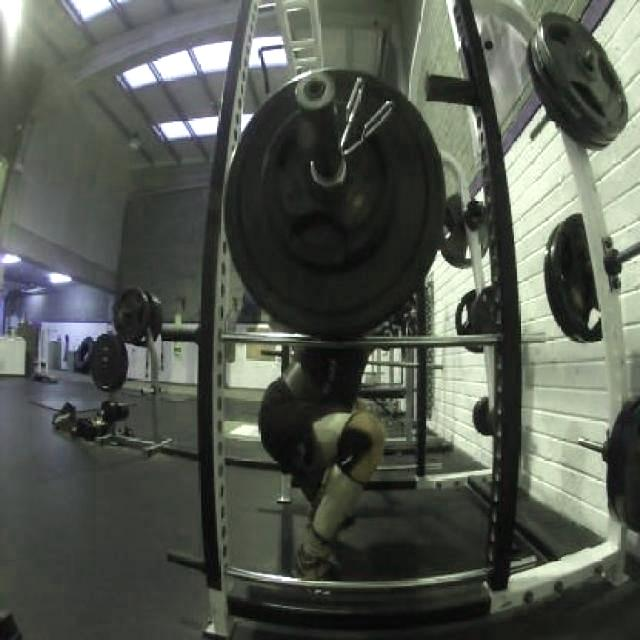barbell: (217, 66, 454, 337)
